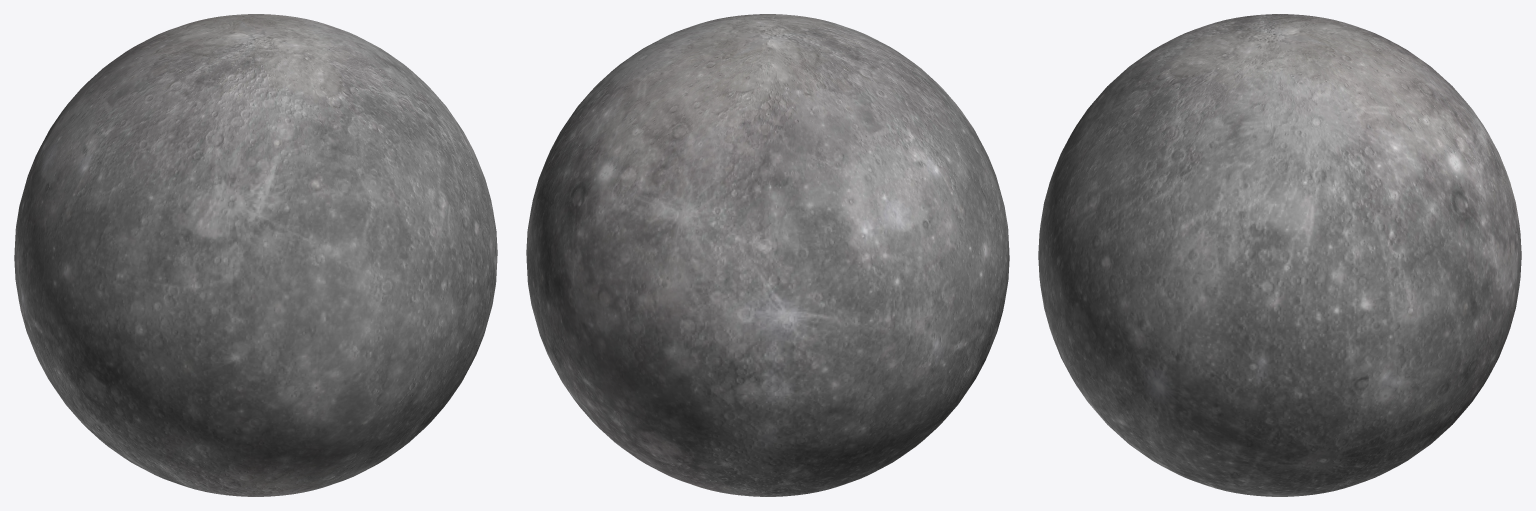
The model's file is Mercury.glb.
3 renders of one model, left to right at view 1: azimuth 30°, elevation 25°; view 2: azimuth 150°, elevation 25°; view 3: azimuth 270°, elevation 25°, orthographic.
Parts seen in each view (by area): view 1: Mercury; view 2: Mercury; view 3: Mercury.
Part boxes in pixels (x1=…): Mercury: x1=14, y1=14, x2=497, y2=496; Mercury: x1=526, y1=14, x2=1009, y2=496; Mercury: x1=1038, y1=14, x2=1521, y2=496.
Bounding box in the file's own units: 0.76 × 0.76 × 0.76.
Materials: 1 (1 with a texture image).
